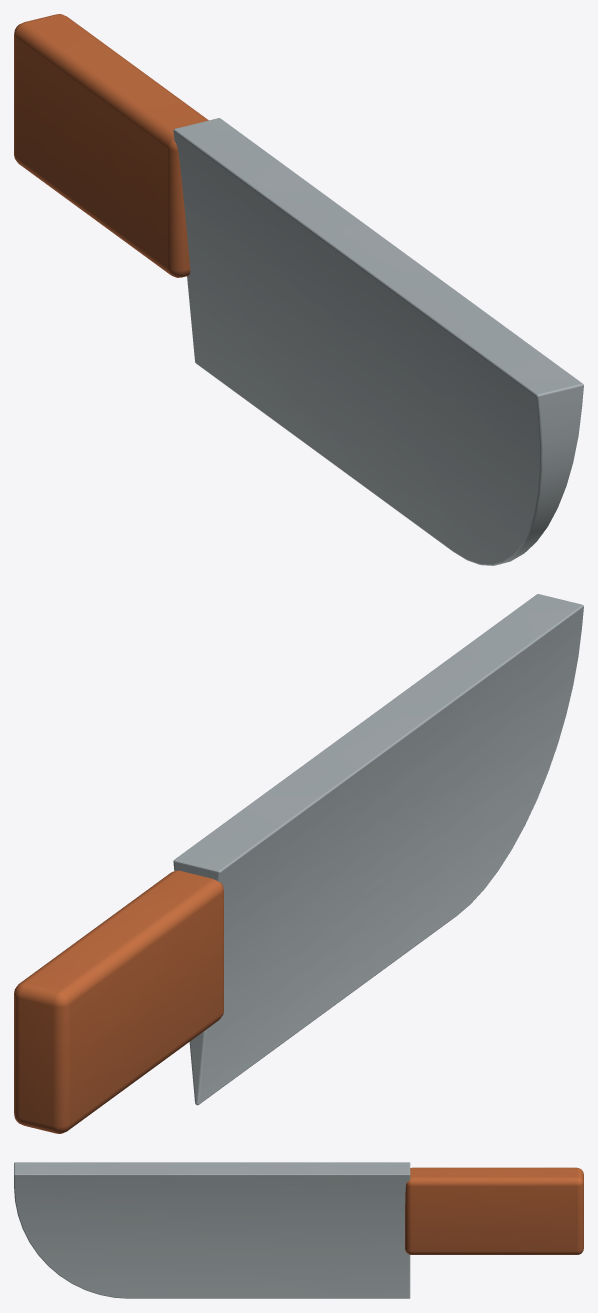
The model's file is knife.fbx.
3 views of the same model, one above another, from view 1: azimuth 30°, elevation 25°; view 2: azimuth 150°, elevation 25°; view 3: azimuth 270°, elevation 25° (orthographic). The views are drawn at different scales.
Parts seen in each view (by area): view 1: knife1; view 2: knife1; view 3: knife1.
Part boxes in pixels (x1,y1,x2,y2): knife1: (14,14,583,565); knife1: (14,594,583,1133); knife1: (14,1162,583,1298).
Bounding box in the file's own units: 2.64 × 11.09 × 43.86.
